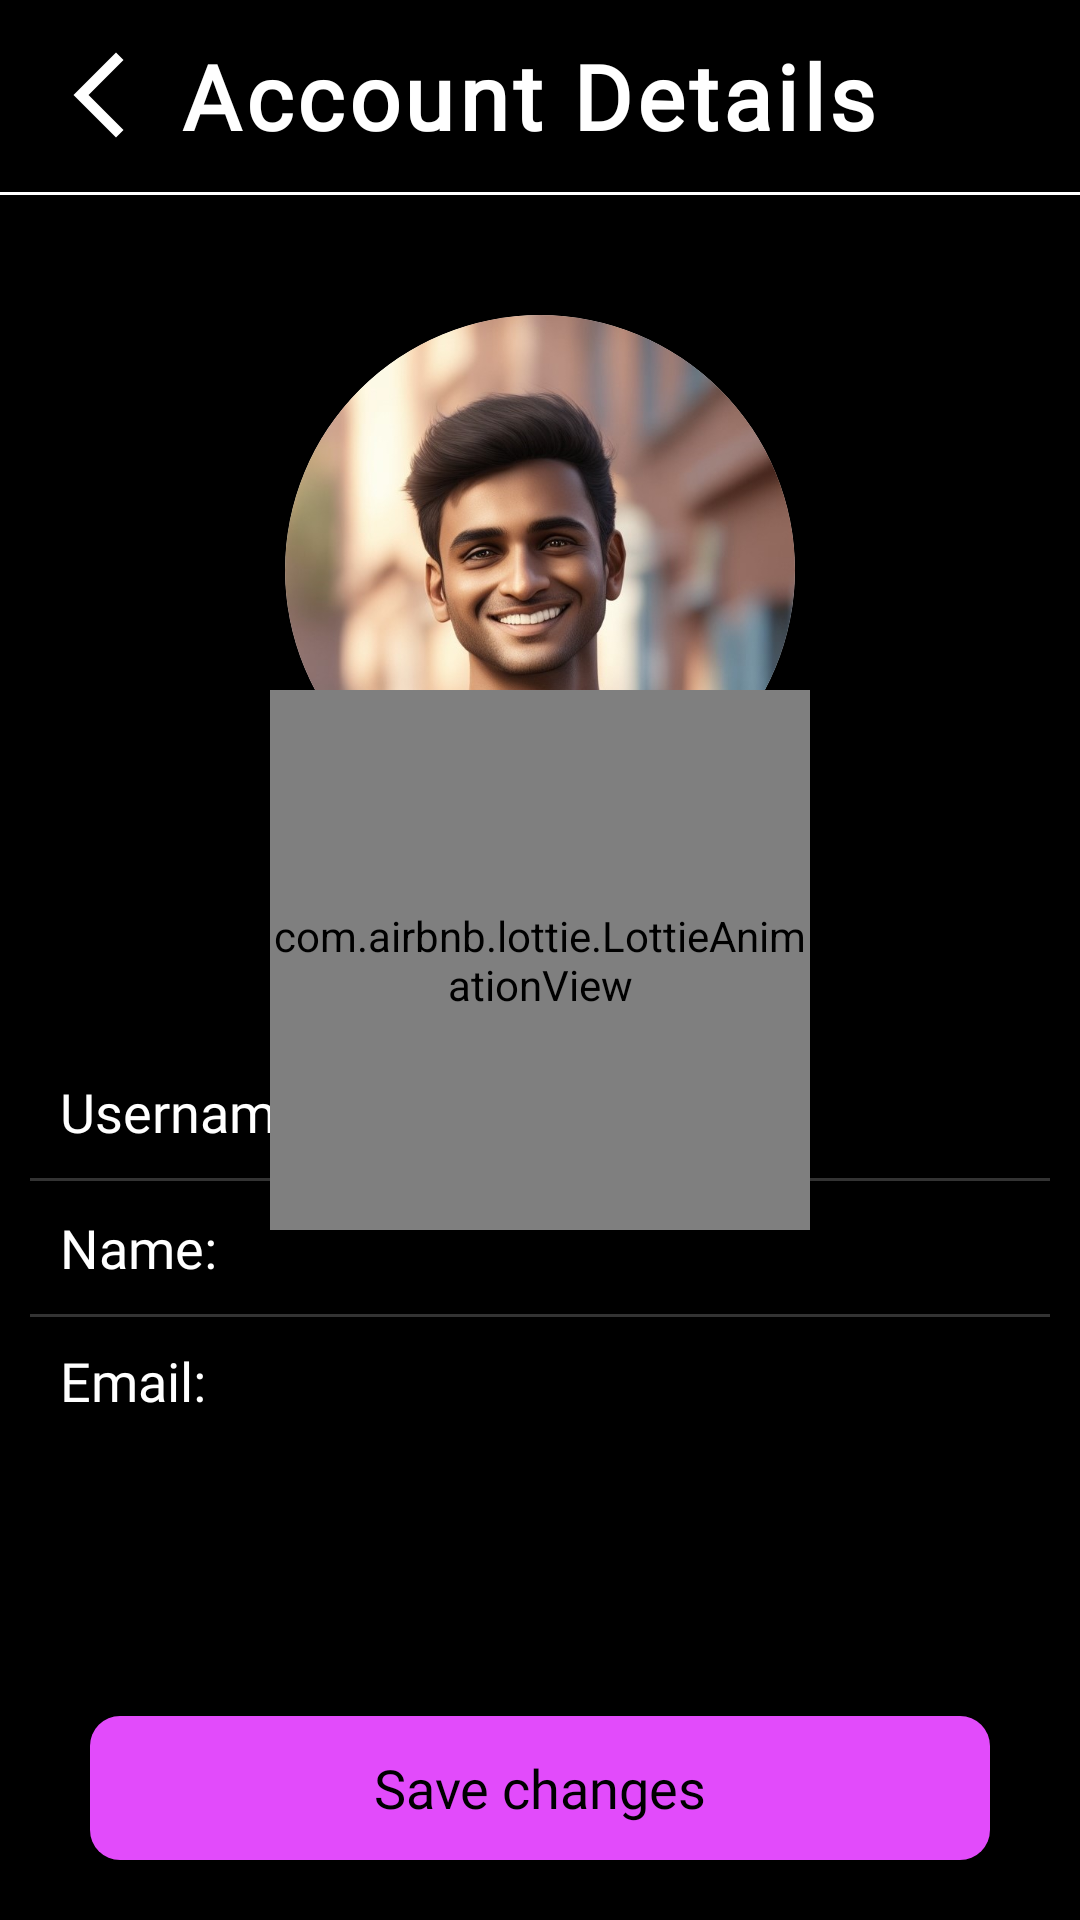

Named icons in this screenshot (1080px x 1920px) and their centers, (x,y):
back: (98,95)
